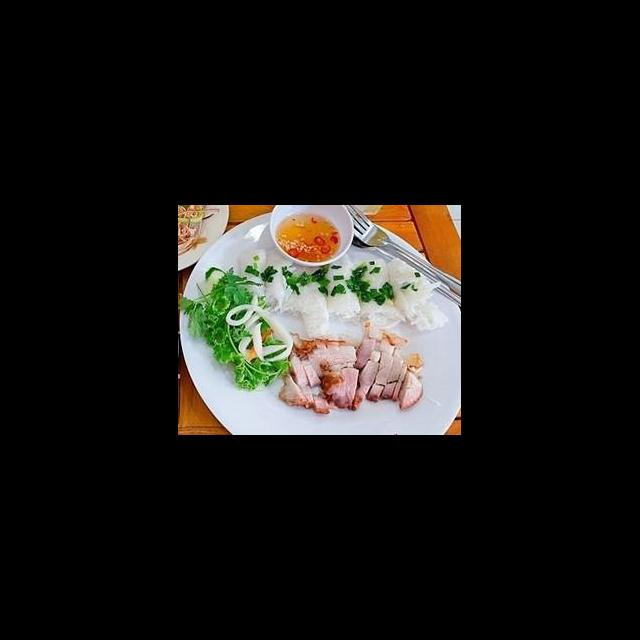banh hoi: (387, 255, 452, 333), (352, 254, 409, 331), (286, 263, 332, 343), (324, 248, 364, 323), (262, 251, 296, 314), (238, 246, 270, 304)
banh hoi heo quay: (186, 228, 462, 434)
thit heo quay: (350, 318, 426, 416), (278, 330, 362, 417)
